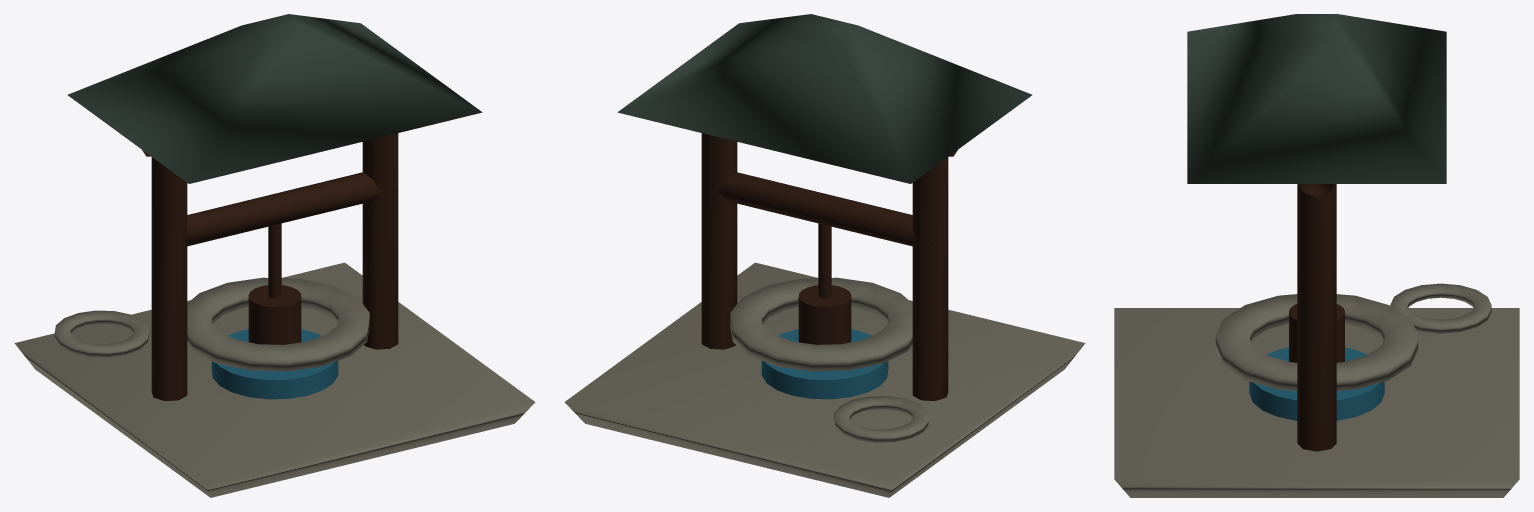
Rendered from R40_HAN_LUOYANG_INFRASTRUCTURE_WELL_TIMBER_CANOPY_A.fbx.
3 views of the same model, side by side, from view 1: azimuth 30°, elevation 25°; view 2: azimuth 150°, elevation 25°; view 3: azimuth 270°, elevation 25° (orthographic). The views are drawn at different scales.
Parts seen in each view (by area): view 1: apron, roof, ring, post_e, post_w, axle, water, bucket, basin, rope; view 2: apron, roof, ring, post_e, post_w, axle, water, bucket, basin, rope; view 3: apron, roof, post_w, ring, water, basin, bucket.
Part boxes in pixels (x1,y1,x2,y2): apron: [14, 262, 535, 497]; roof: [67, 14, 482, 183]; ring: [187, 277, 369, 371]; post_e: [151, 157, 187, 400]; post_w: [362, 133, 398, 349]; axle: [167, 172, 397, 246]; water: [211, 329, 338, 399]; bucket: [248, 285, 301, 344]; basin: [54, 310, 149, 357]; rope: [268, 223, 281, 298]; apron: [564, 262, 1085, 497]; roof: [617, 14, 1032, 183]; ring: [730, 277, 912, 371]; post_e: [912, 157, 948, 400]; post_w: [701, 133, 737, 349]; axle: [702, 172, 932, 246]; water: [761, 329, 888, 399]; bucket: [798, 285, 851, 344]; basin: [834, 396, 928, 442]; rope: [818, 223, 831, 298]; apron: [1114, 308, 1519, 497]; roof: [1187, 14, 1446, 183]; post_w: [1297, 184, 1336, 451]; ring: [1215, 294, 1418, 390]; water: [1249, 347, 1384, 420]; basin: [1390, 283, 1491, 333]; bucket: [1289, 304, 1344, 362].
Size of the model in its own units: 72 by 77 by 72.
